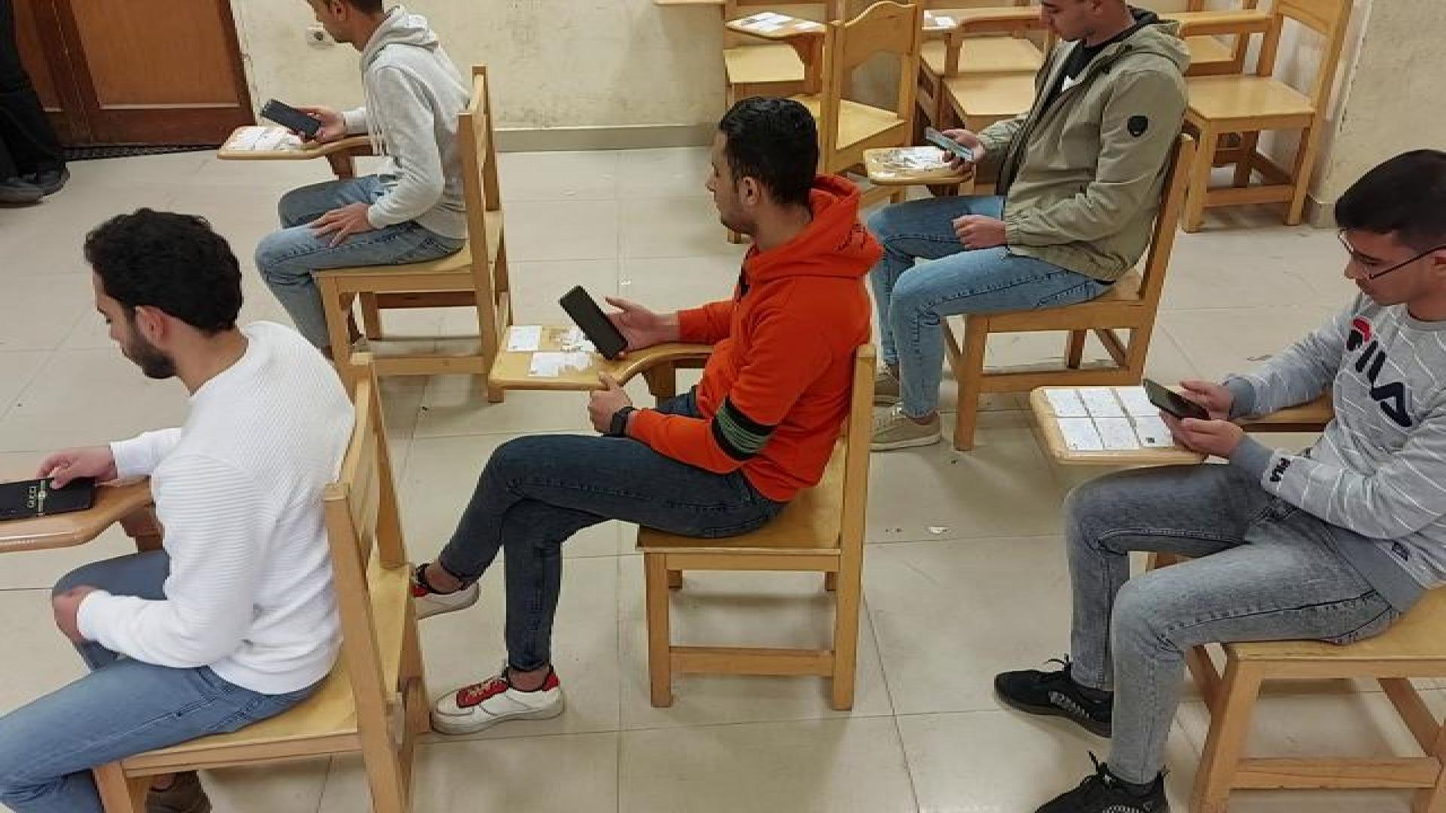phone: (555, 281, 645, 359), (1, 467, 101, 521), (1140, 371, 1217, 438), (258, 93, 325, 142), (920, 127, 976, 168)
